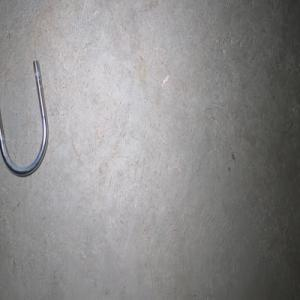ClampPart: (0, 59, 49, 178)
